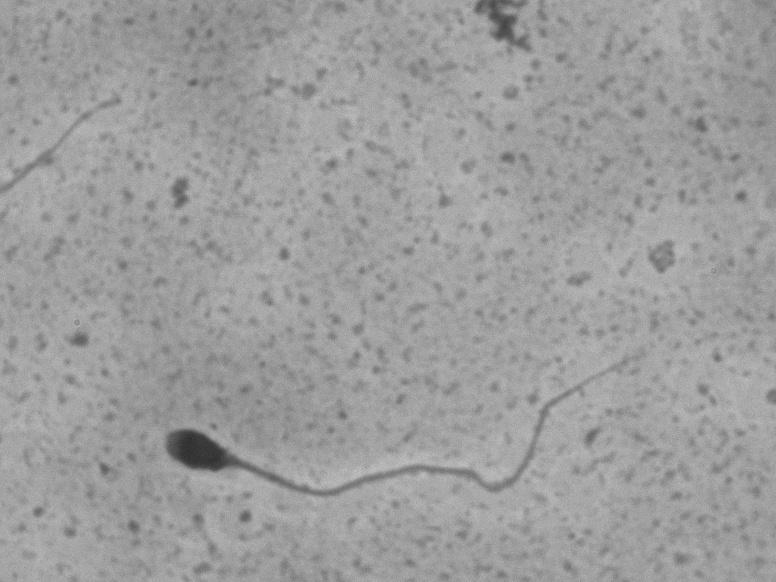Abnormal: (123, 338, 658, 512)
